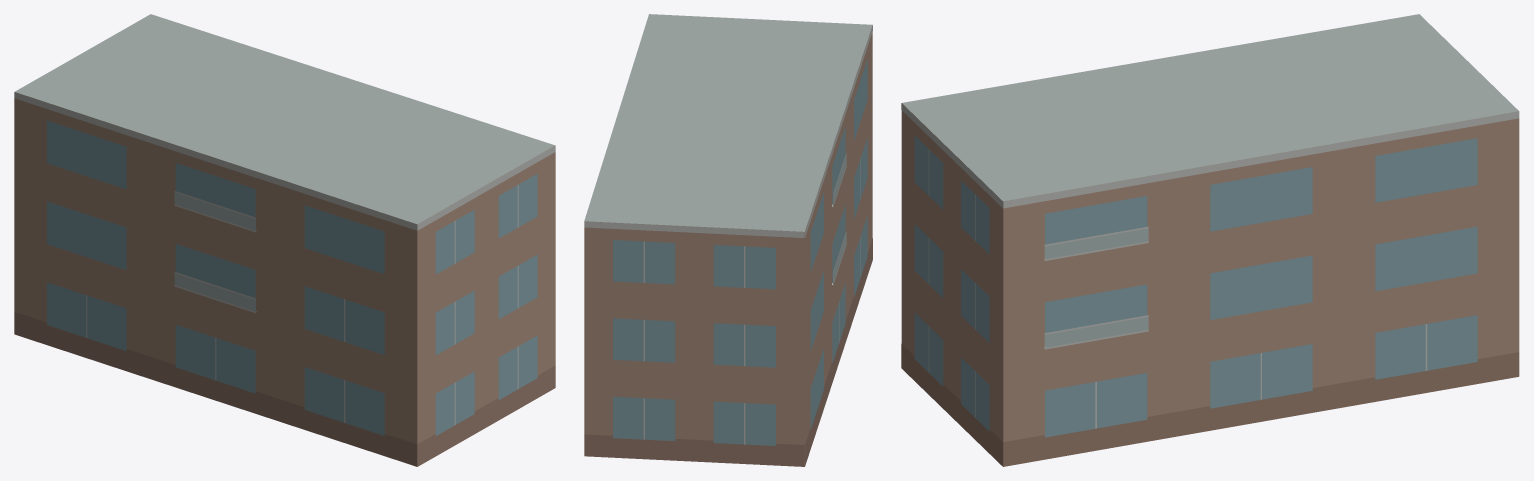
File: survey-upis-32698478.glb
3 renders of one model, left to right at view 1: azimuth 30°, elevation 25°; view 2: azimuth 150°, elevation 25°; view 3: azimuth 270°, elevation 25°, orthographic. The views are drawn at different scales.
Visible parts, largest first — view 1: survey-upis-32698478.tmp; view 2: survey-upis-32698478.tmp; view 3: survey-upis-32698478.tmp.
Part boxes in pixels (bbox=[...]): survey-upis-32698478.tmp: bbox=[14, 14, 555, 466]; survey-upis-32698478.tmp: bbox=[584, 14, 872, 466]; survey-upis-32698478.tmp: bbox=[901, 14, 1519, 466].
Bounding box in the file's own units: 13.87 × 9.15 × 19.31.
